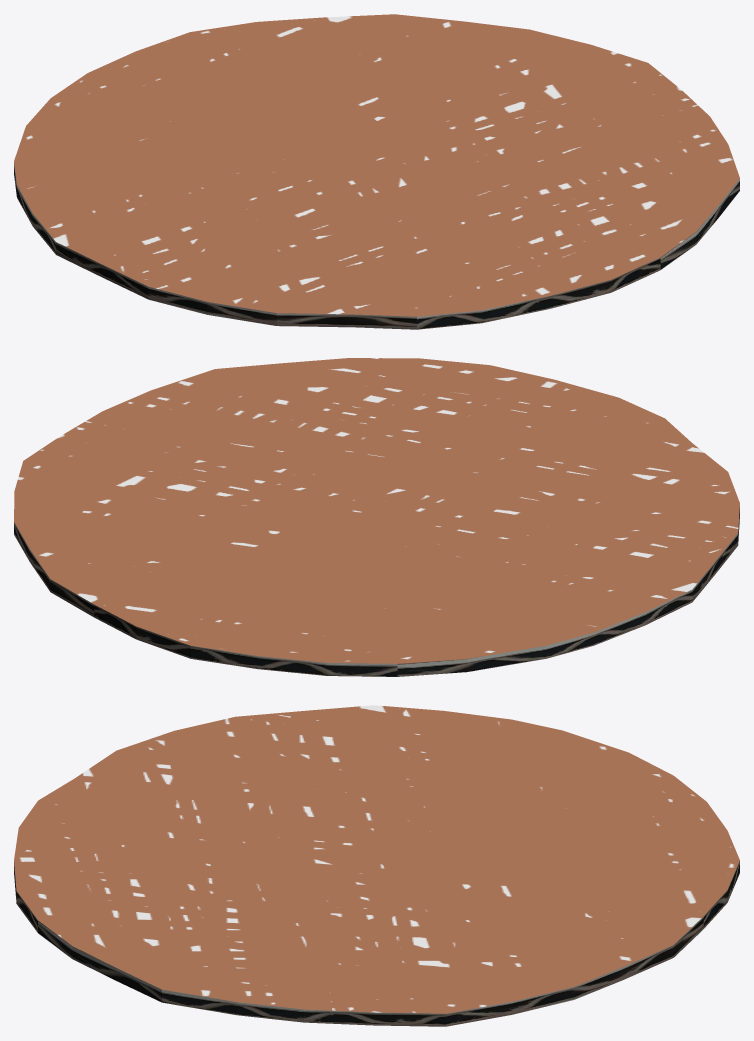
The model's file is island.fbx.
The picture shows the model from 3 angles, top to bottom: view 1: azimuth 30°, elevation 25°; view 2: azimuth 150°, elevation 25°; view 3: azimuth 270°, elevation 25°; orthographic projection.
Parts seen in each view (by area): view 1: island; view 2: island; view 3: island.
Boxes of the visible parts, box(x1,y1,x2,y2) form: island: box(14, 14, 739, 329); island: box(14, 358, 739, 676); island: box(14, 705, 739, 1026).
Bounding box in the file's own units: 1013 × 20 × 1008.
